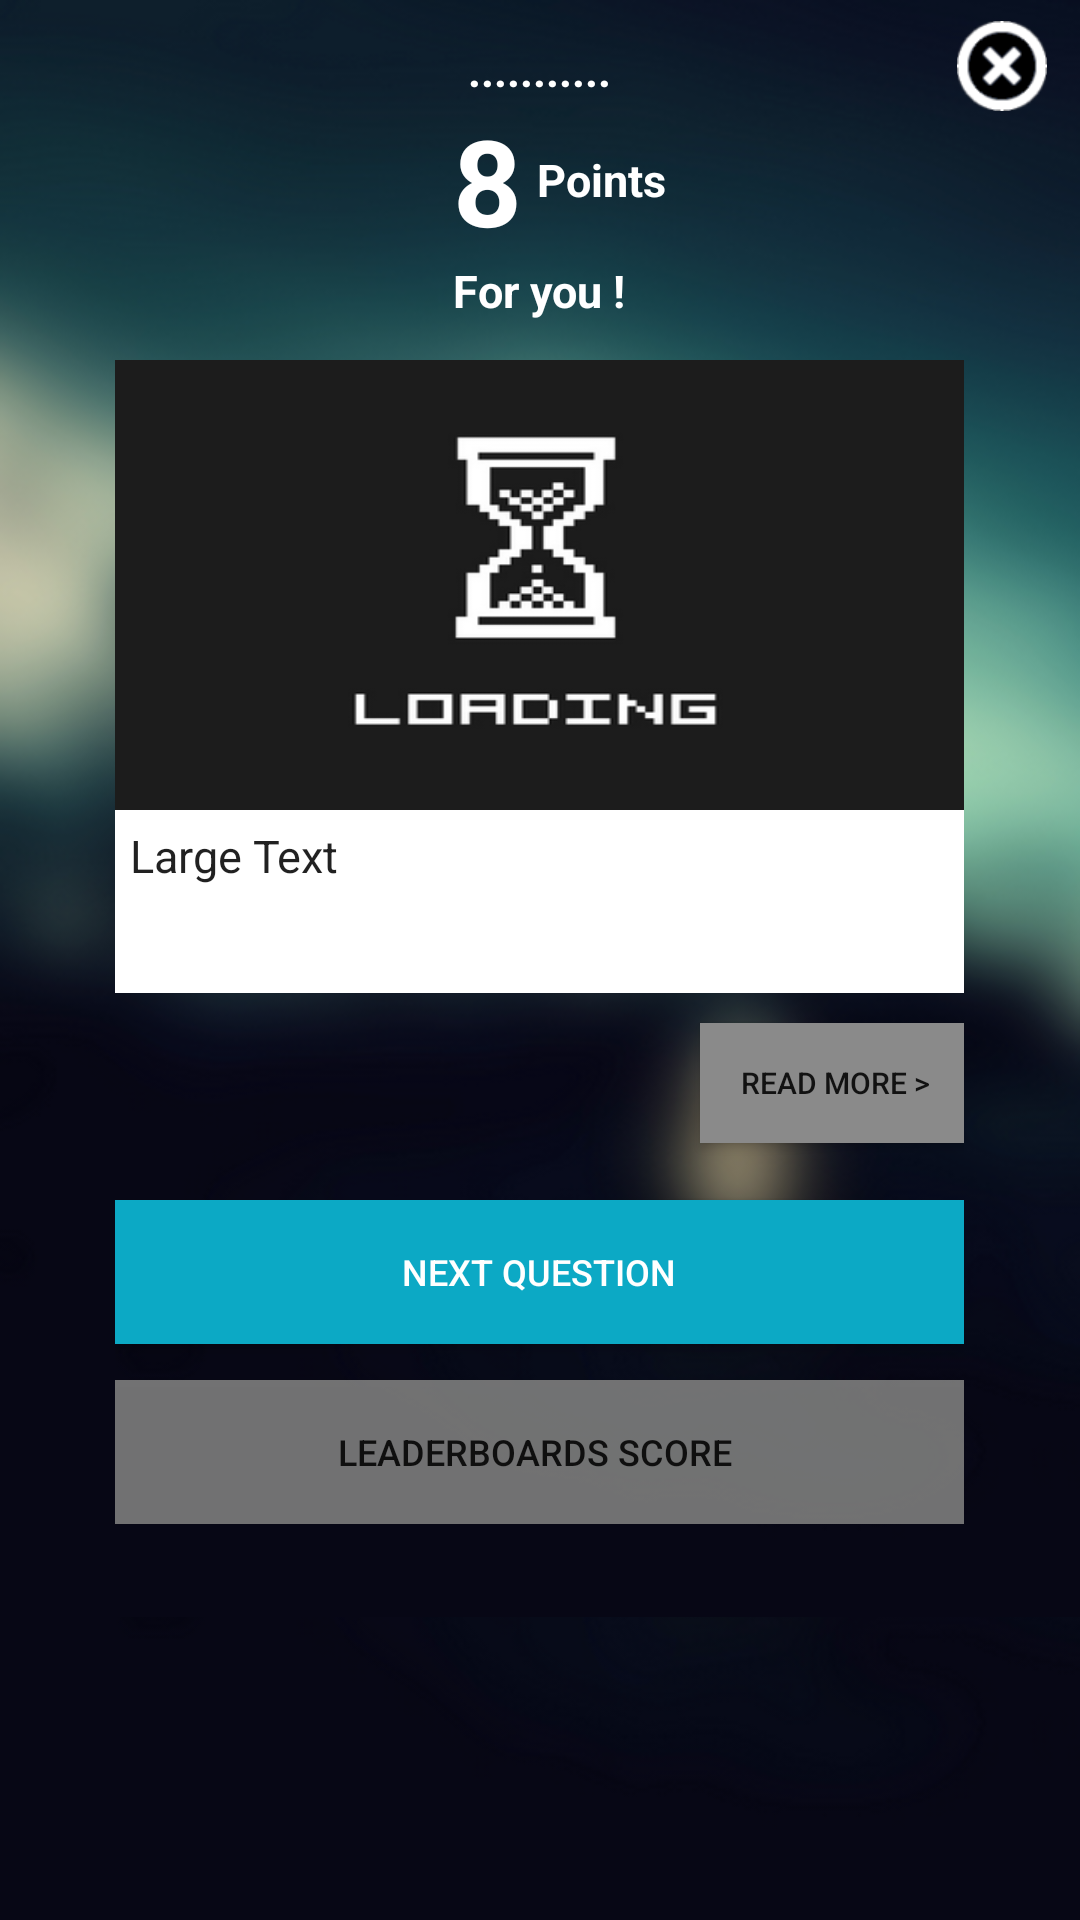

Icon click points for this 1080 × 1920 phone screenshot, format [x,y]:
close: [1002,66]
